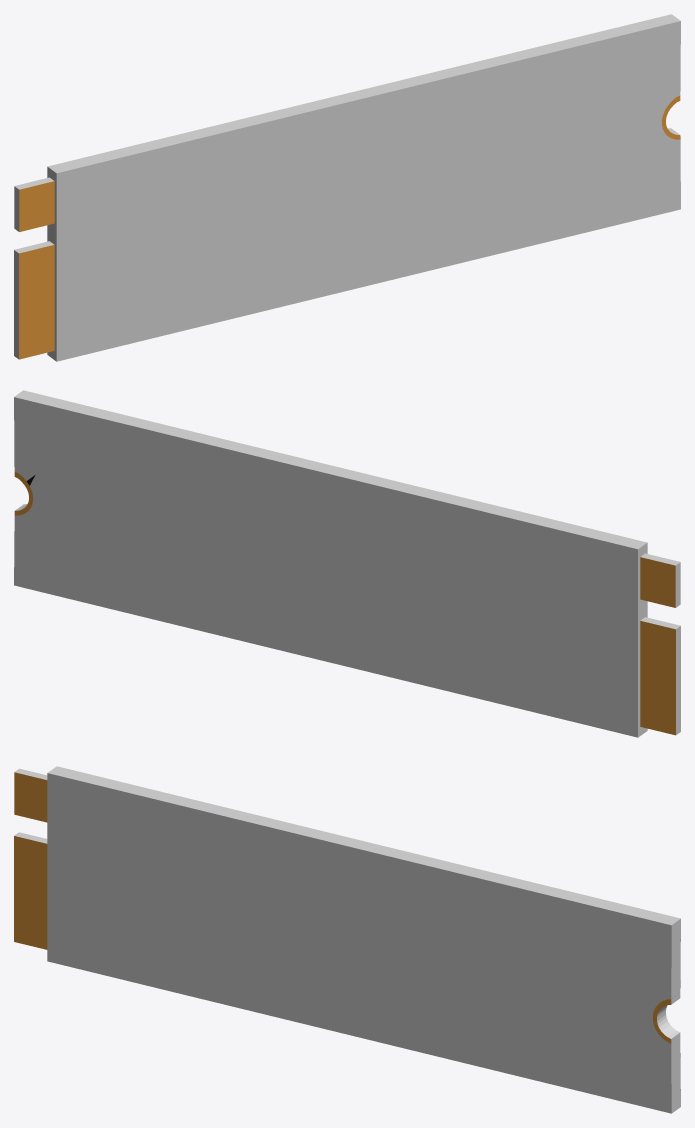
File: M2SSD.fbx
3 views of the same model, one above another, from view 1: azimuth 30°, elevation 25°; view 2: azimuth 150°, elevation 25°; view 3: azimuth 330°, elevation 25° (orthographic).
Visible parts, largest first — view 1: SSD; view 2: SSD; view 3: SSD.
Boxes of the visible parts, x1,y1,x2,y2 form: SSD: (14,14,680,361); SSD: (14,390,680,737); SSD: (14,766,680,1113).
Size of the model in its own units: 80.39 by 21.93 by 1.97.
